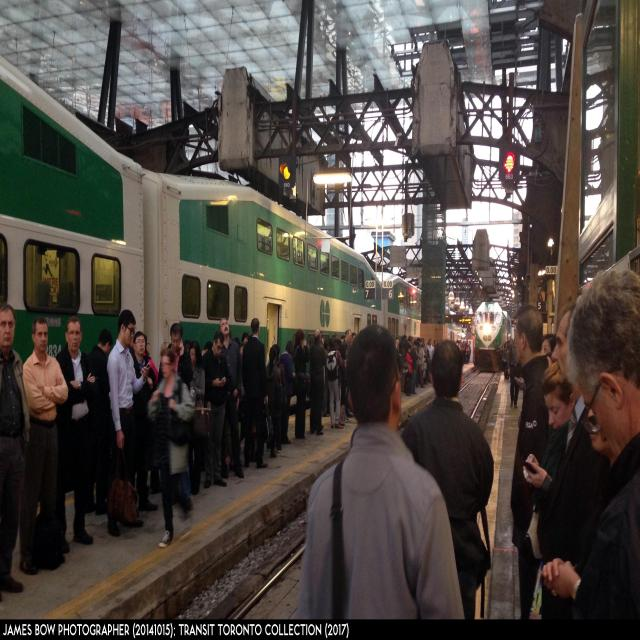body: (295, 323, 466, 620), (564, 263, 640, 640), (398, 336, 495, 620), (544, 299, 606, 573), (522, 360, 578, 640), (509, 305, 550, 619), (21, 315, 70, 577), (101, 308, 154, 541), (325, 328, 441, 429), (54, 314, 96, 556), (147, 346, 197, 548), (0, 301, 32, 600), (536, 360, 577, 556), (84, 327, 118, 516), (129, 332, 162, 496), (132, 332, 159, 514), (200, 330, 229, 490), (218, 317, 245, 480), (241, 316, 269, 470), (187, 340, 211, 496), (263, 344, 287, 454), (535, 312, 575, 378), (158, 324, 194, 394), (290, 326, 312, 439), (324, 336, 345, 430), (265, 345, 282, 459), (309, 330, 327, 436), (501, 328, 524, 410), (280, 339, 296, 445), (316, 330, 328, 417), (508, 337, 522, 410), (442, 330, 472, 364), (234, 332, 250, 354), (477, 309, 495, 326), (182, 335, 192, 355), (160, 339, 172, 354), (131, 326, 137, 347), (201, 341, 211, 353)
